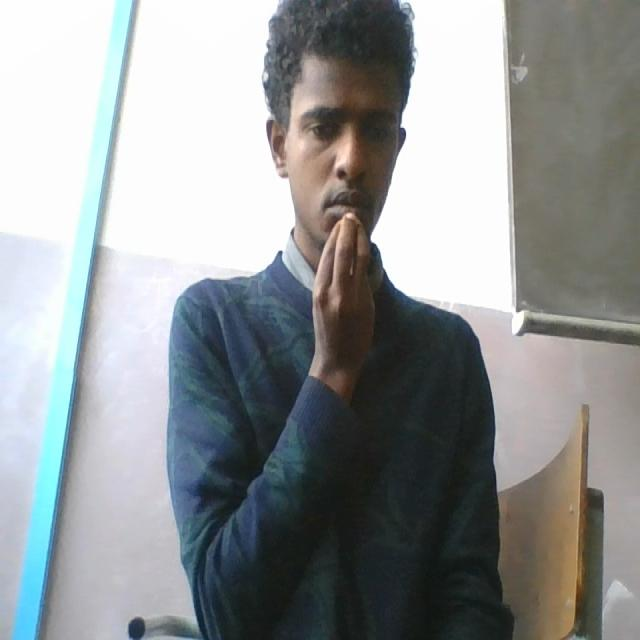meblat: (304, 200, 389, 389)
